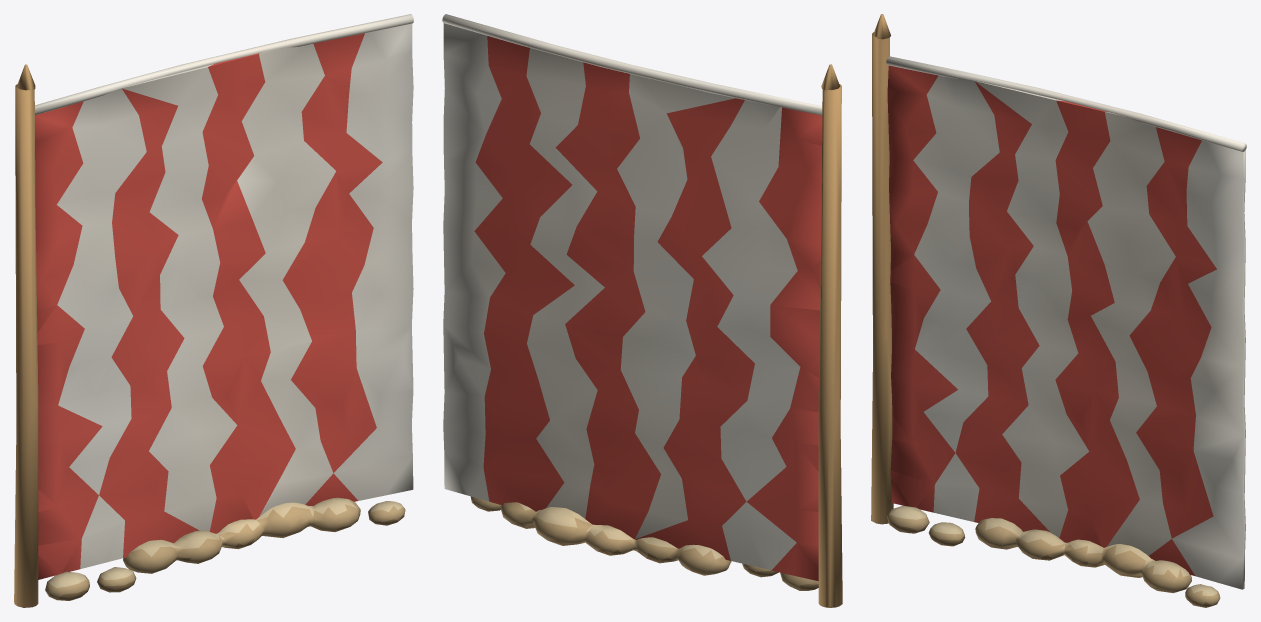
The model's file is shore_windbreak_lod1.glb.
The picture shows the model from 3 angles, left to right: view 1: azimuth 30°, elevation 25°; view 2: azimuth 150°, elevation 25°; view 3: azimuth 330°, elevation 25°; orthographic projection. The views are drawn at different scales.
Visible parts, largest first — view 1: shore_windbreak.001; view 2: shore_windbreak.001; view 3: shore_windbreak.001.
Part boxes in pixels (x1,y1,x2,y2): shore_windbreak.001: [14, 14, 413, 607]; shore_windbreak.001: [442, 14, 842, 607]; shore_windbreak.001: [871, 14, 1246, 607].
Bounding box in the file's own units: 20.55 × 26.66 × 3.27.
